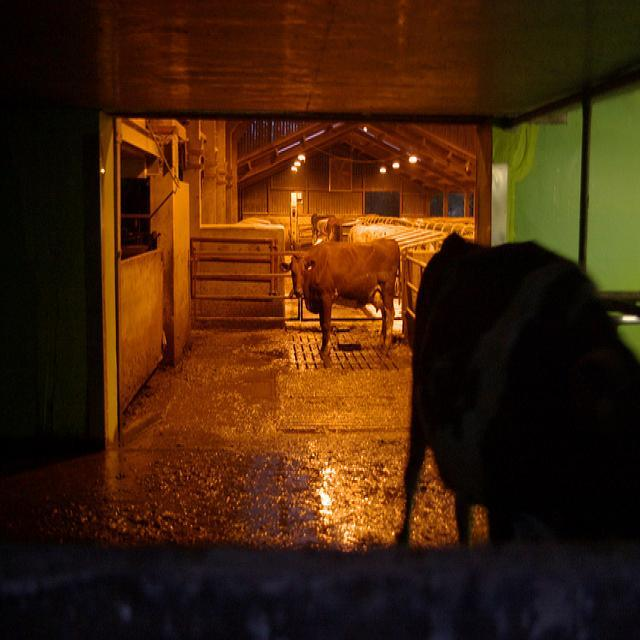cow: (398, 229, 636, 547), (277, 235, 400, 353), (311, 210, 335, 237), (346, 223, 366, 242)
